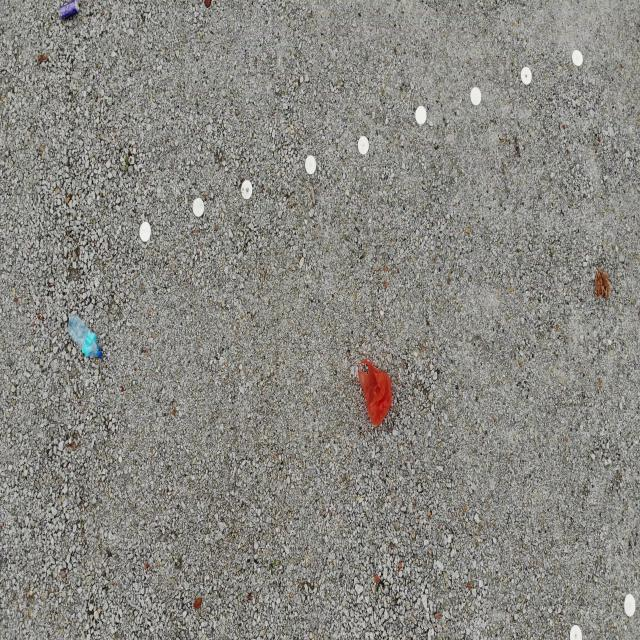rubbish: (356, 358, 392, 425), (65, 312, 102, 357), (594, 268, 610, 300), (58, 0, 78, 23), (203, 0, 211, 6)
